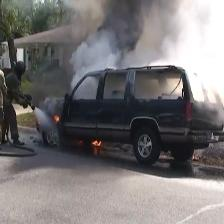smoke: (91, 6, 216, 65)
